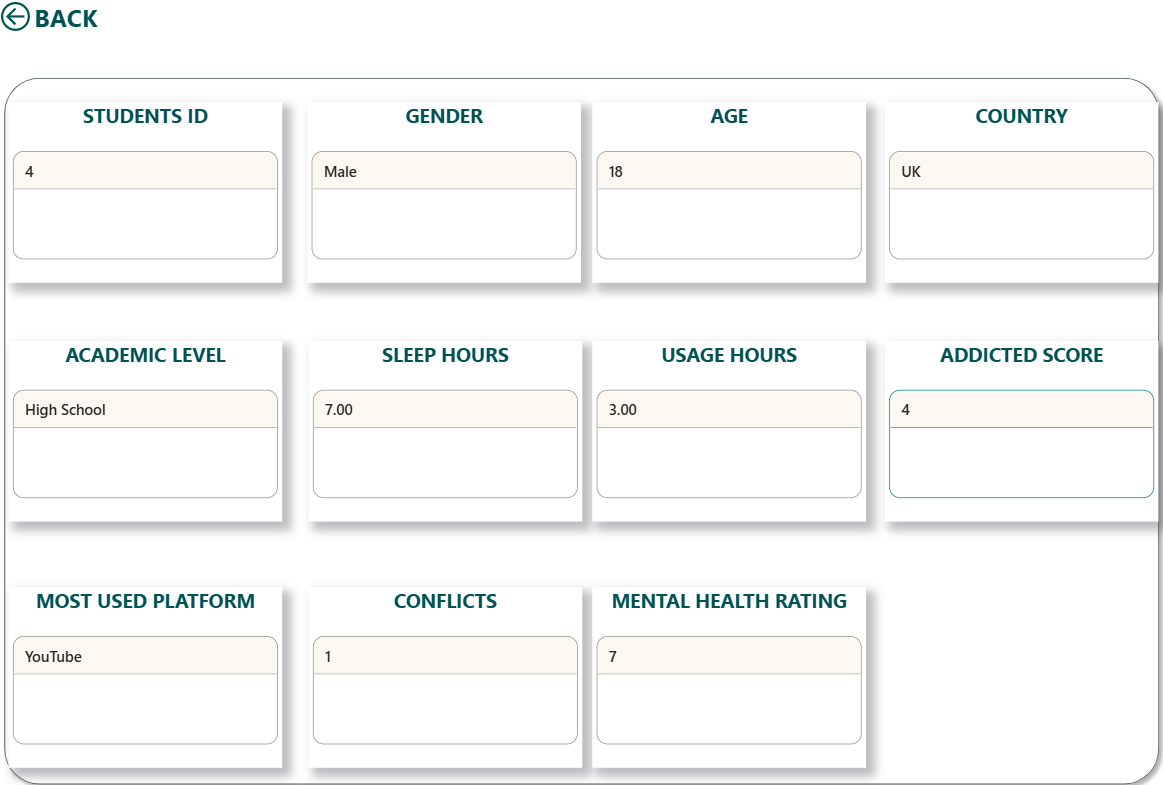

This screenshot's page, from the dashboard's own definition file:
{"tool":"powerbi","page":{"name":"STUDENT PROFILE","canvas":[1280,870],"ordinal":5},"visuals":[{"type":"actionButton","box":[0,0,115.3,42.5],"z":0},{"type":"shape","box":[0,79.6,1280.3,790.4],"z":1000},{"type":"cardVisual","title":"STUDENTS ID","fields":{"Rows":["Student Details.Student_ID"]},"box":[13.7,115.3,299.1,197.6],"z":2000},{"type":"cardVisual","title":"GENDER","fields":{"Rows":["Student Details.Gender"]},"box":[340.3,115.3,299.1,197.6],"z":3000},{"type":"cardVisual","title":"AGE","fields":{"Rows":["Student Details.Age"]},"box":[651.8,115.3,299.1,197.6],"z":4000},{"type":"cardVisual","title":"COUNTRY","fields":{"Rows":["Student Details.Country"]},"box":[971.5,115.3,299.1,197.6],"z":5000},{"type":"cardVisual","title":"ACADEMIC LEVEL","fields":{"Rows":["Student Details.Academic_Level"]},"box":[13.7,376,299.1,197.6],"z":6000},{"type":"cardVisual","title":"SLEEP HOURS","fields":{"Rows":["Student Details.Sleep_Hours_Per_Night"]},"box":[341.7,376,299.1,197.6],"z":7000},{"type":"cardVisual","title":"USAGE HOURS","fields":{"Rows":["Platform Details.Avg_Daily_Usage_Hours"]},"box":[651.8,376,299.1,197.6],"z":8000},{"type":"cardVisual","title":"ADDICTED SCORE","fields":{"Rows":["Student Details.Addicted_Score"]},"box":[971.5,376,299.1,197.6],"z":9000},{"type":"cardVisual","title":"MOST USED PLATFORM","fields":{"Rows":["Platform Details.Most_Used_Platform"]},"box":[13.7,644.9,299.1,197.6],"z":10000},{"type":"cardVisual","title":"CONFLICTS","fields":{"Rows":["Student Details.Conflicts_Over_Social_Media"]},"box":[341.7,644.9,299.1,197.6],"z":11000},{"type":"cardVisual","title":"MENTAL HEALTH RATING","fields":{"Rows":["Student Details.Mental_Health_Score"]},"box":[651.8,644.9,299.1,197.6],"z":12000}]}

Visuals, with their boxes in screenshot pixels (x1, y1, x2, y2), scaled from the page's 1280x870 canvas onto the 1163x785 screenshot:
actionButton: 0/0/105/38
shape: 0/72/1162/784
"STUDENTS ID" cardVisual: 12/104/284/282
"GENDER" cardVisual: 309/104/581/282
"AGE" cardVisual: 592/104/864/282
"COUNTRY" cardVisual: 883/104/1154/282
"ACADEMIC LEVEL" cardVisual: 12/339/284/518
"SLEEP HOURS" cardVisual: 310/339/582/518
"USAGE HOURS" cardVisual: 592/339/864/518
"ADDICTED SCORE" cardVisual: 883/339/1154/518
"MOST USED PLATFORM" cardVisual: 12/582/284/760
"CONFLICTS" cardVisual: 310/582/582/760
"MENTAL HEALTH RATING" cardVisual: 592/582/864/760
